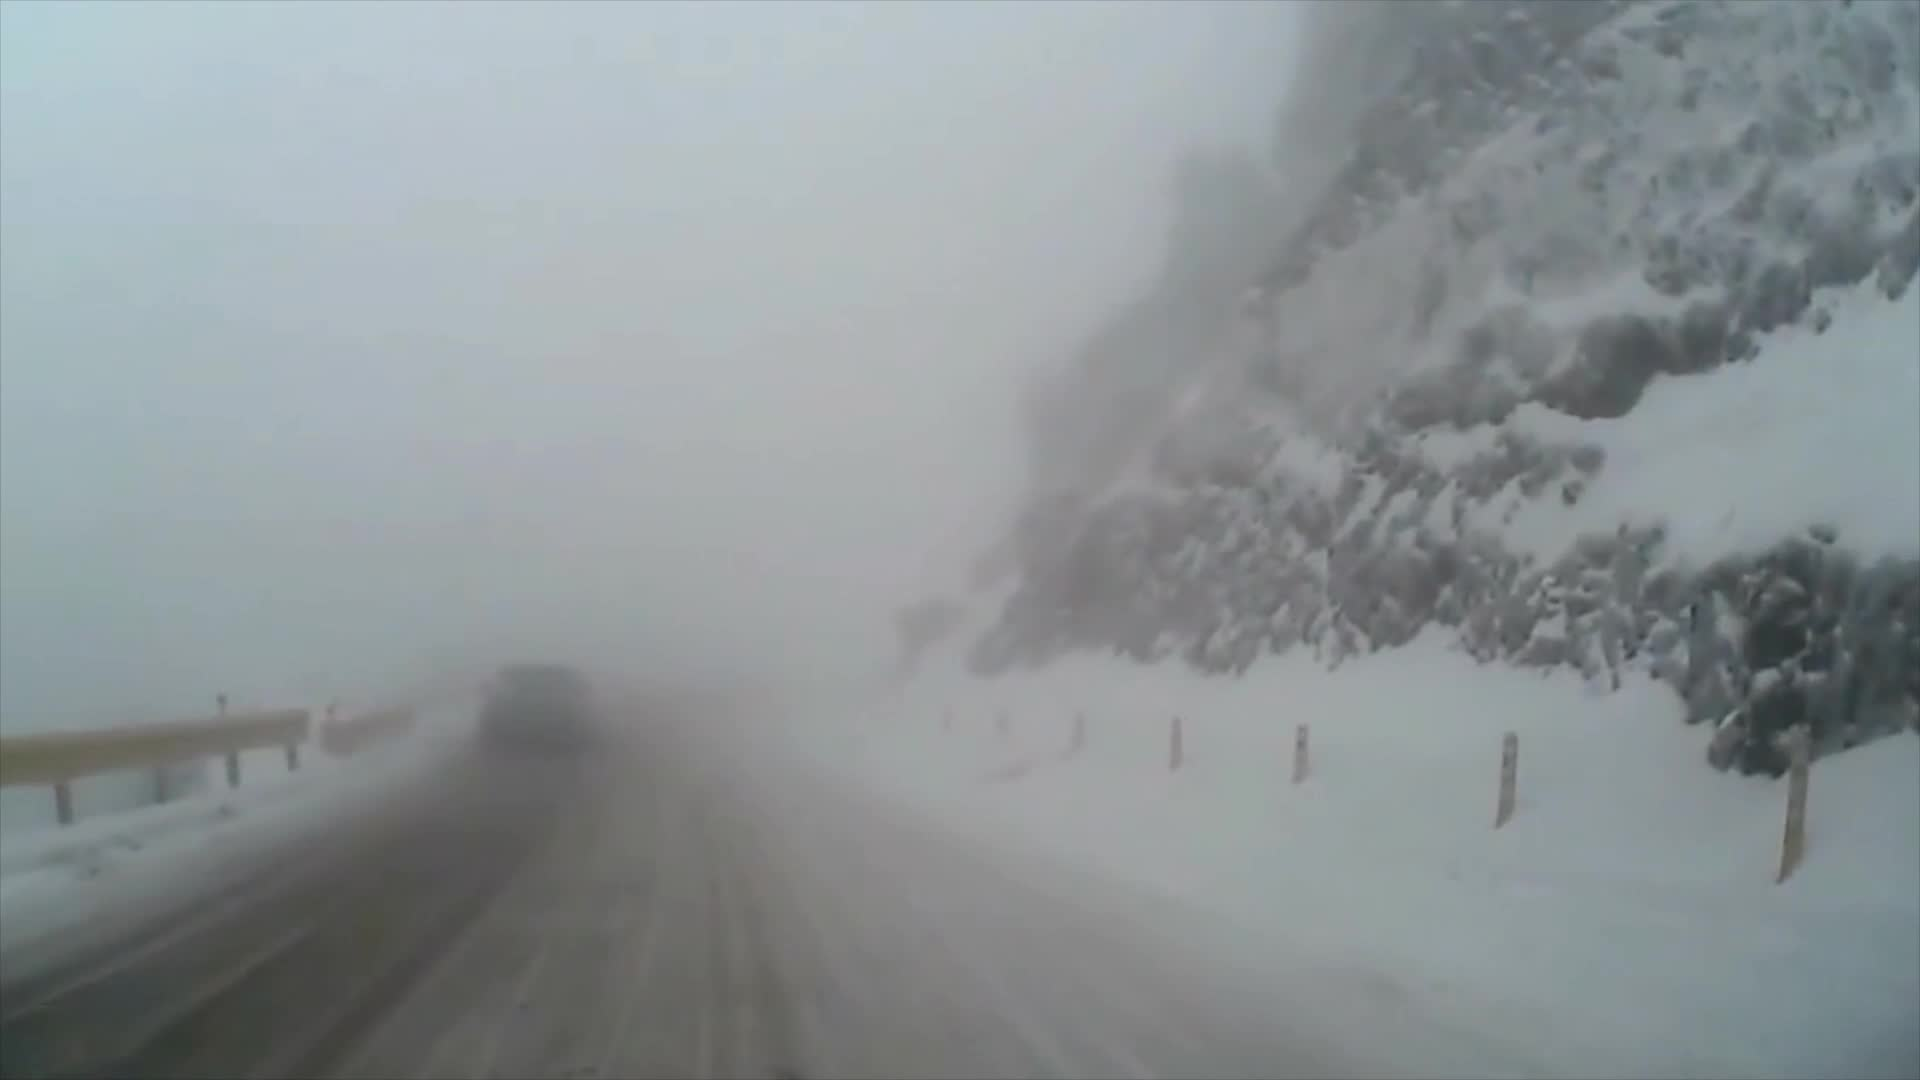vehicle: (477, 661, 592, 752)
